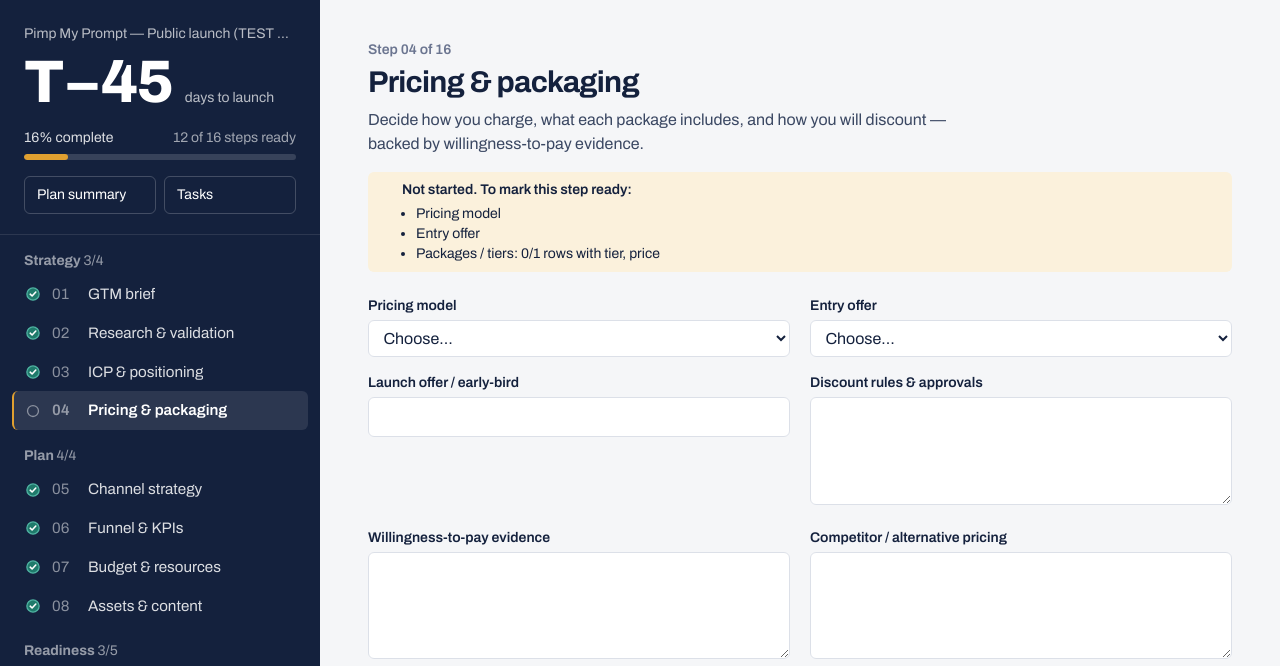
editor › turns a step ready once its gate is met
Step 1. Select "Freemium + subscription" in the dropdown labelled "Pricing model" → (579, 338), box [368,320,790,357]
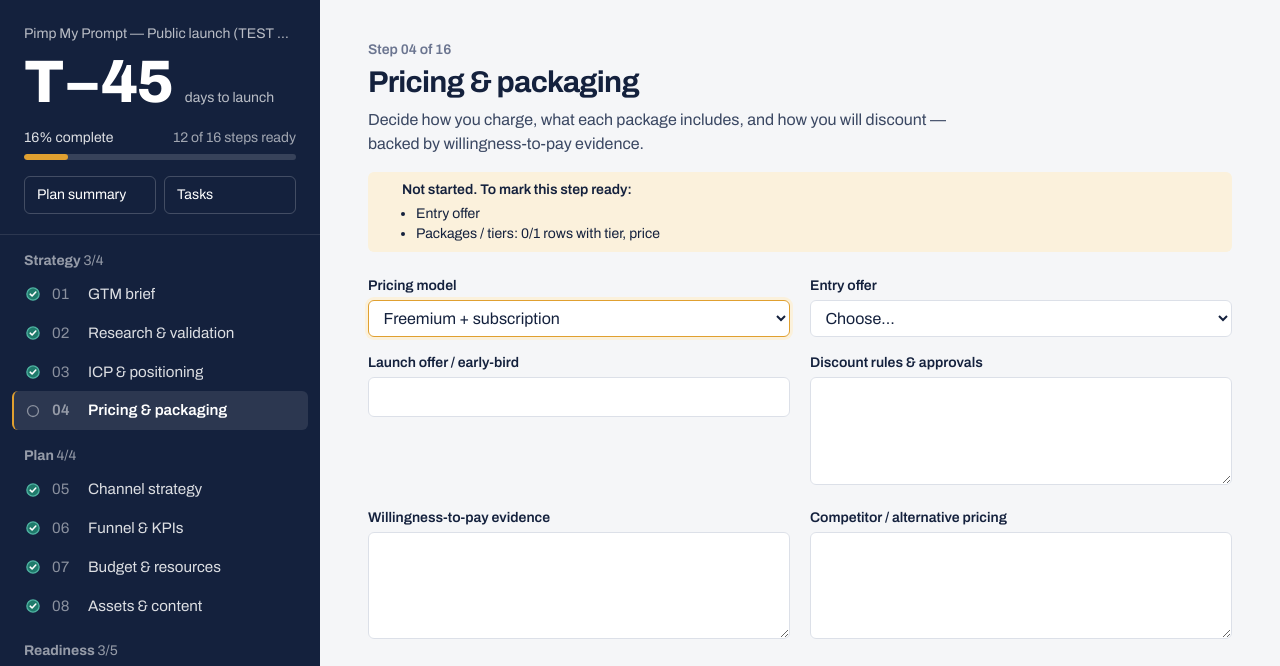
Step 2. Select "Freemium" in the dropdown labelled "Entry offer" → (1021, 318), box [810,300,1232,337]
(page scrolled)
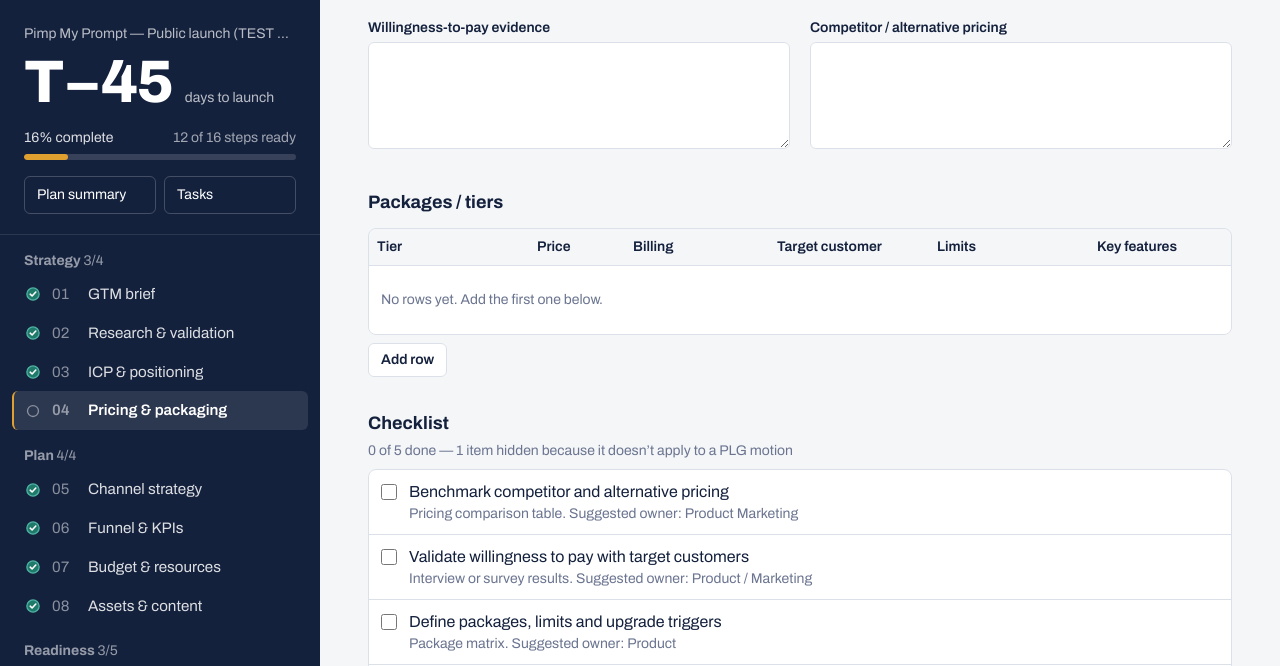
Step 3. Click the button "Add row" → click(408, 360), box [368,343,447,377]
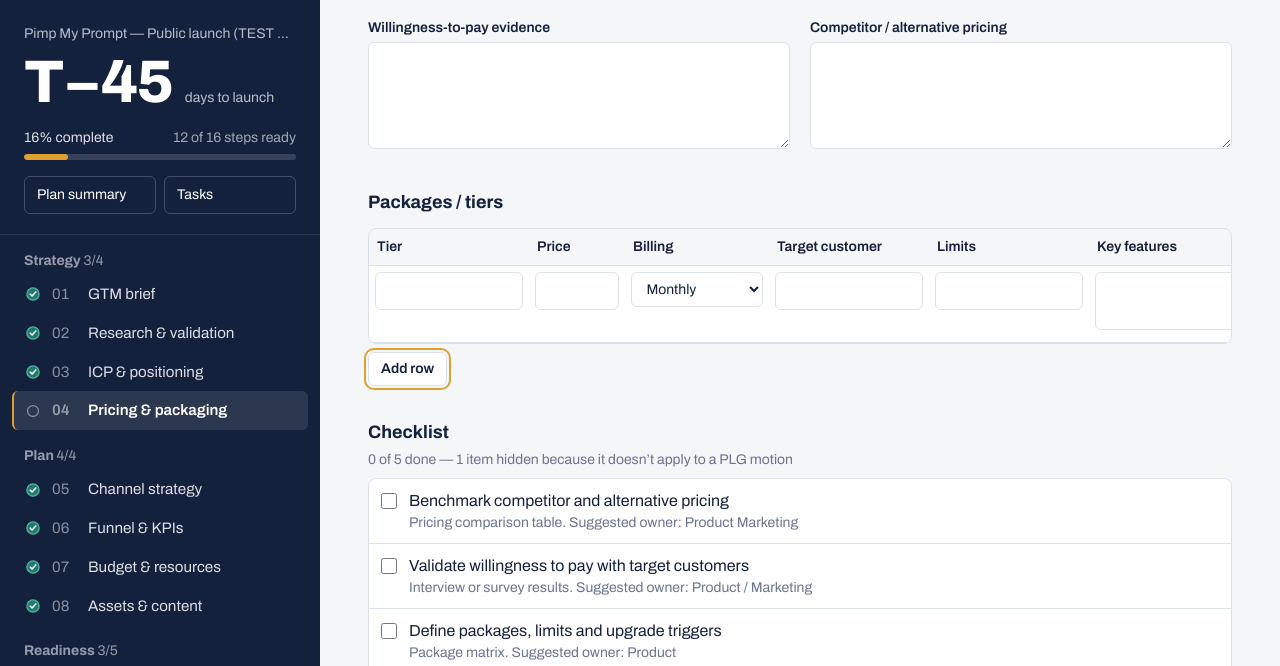
Step 4. Type "Pro" into the field named "Tier, row 1" → (449, 291), box [375,272,523,310]
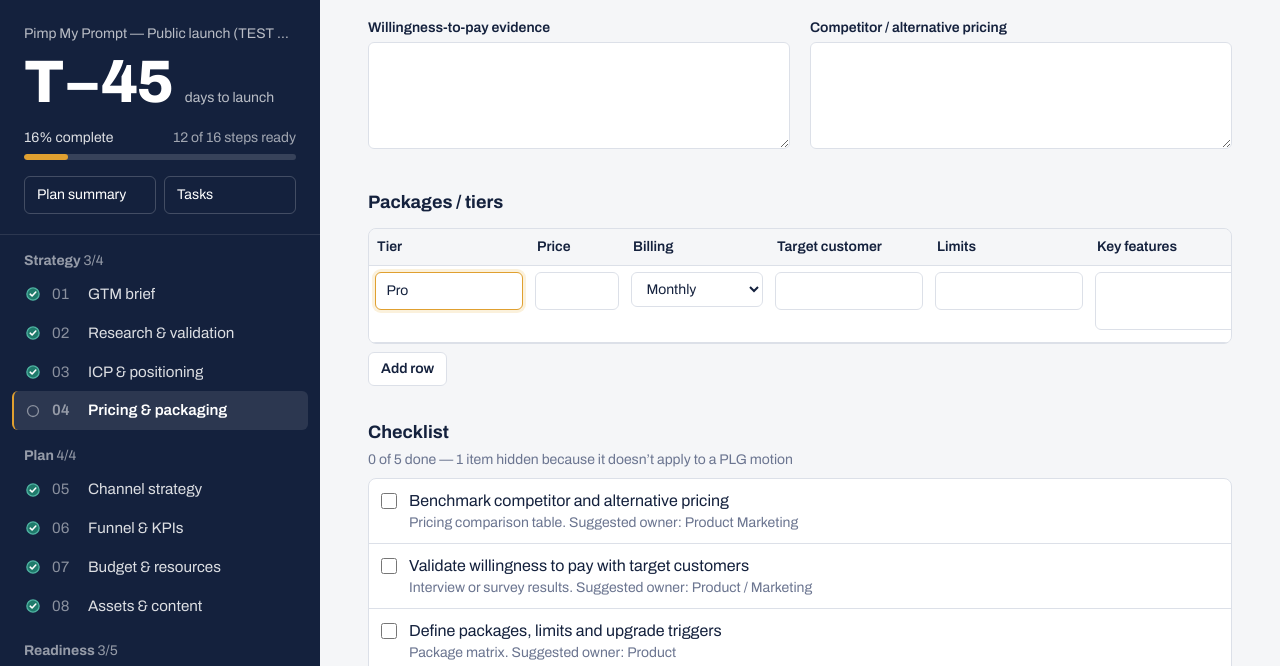
Step 5. Type "19" into the number field named "Price, " → (577, 291), box [535,272,619,310]
(page scrolled)
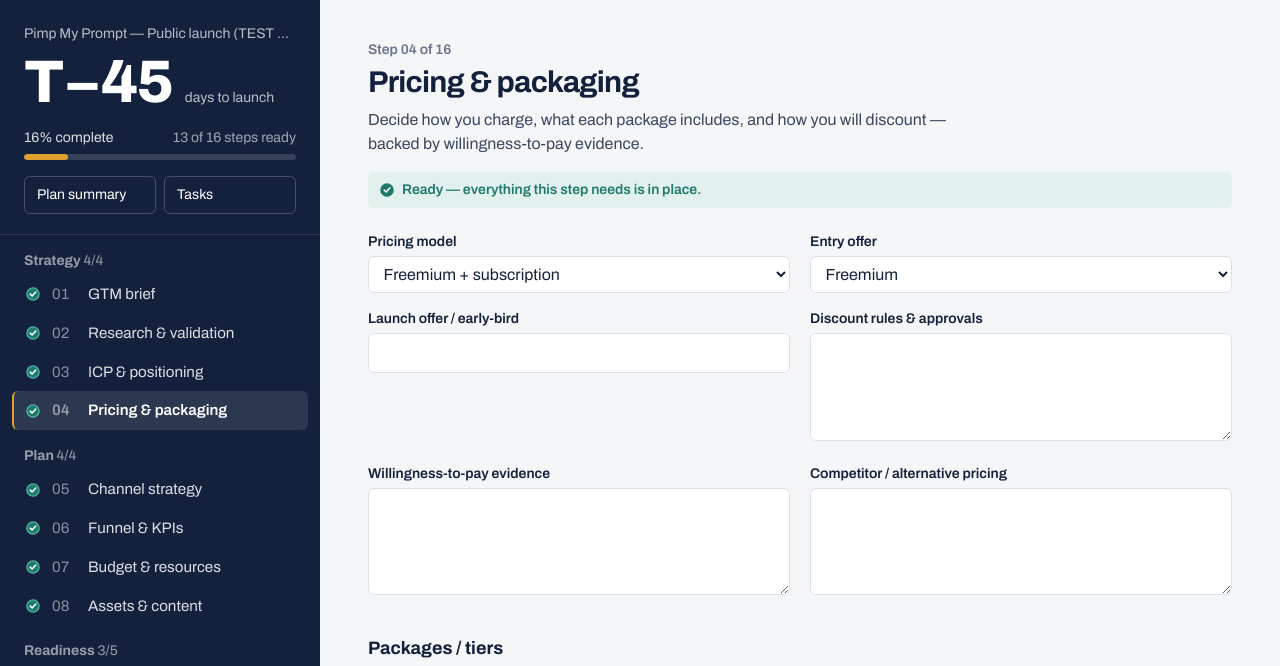
expect the text "Ready — everything this step needs is in place." is shown: met, box [368,172,1232,208]
